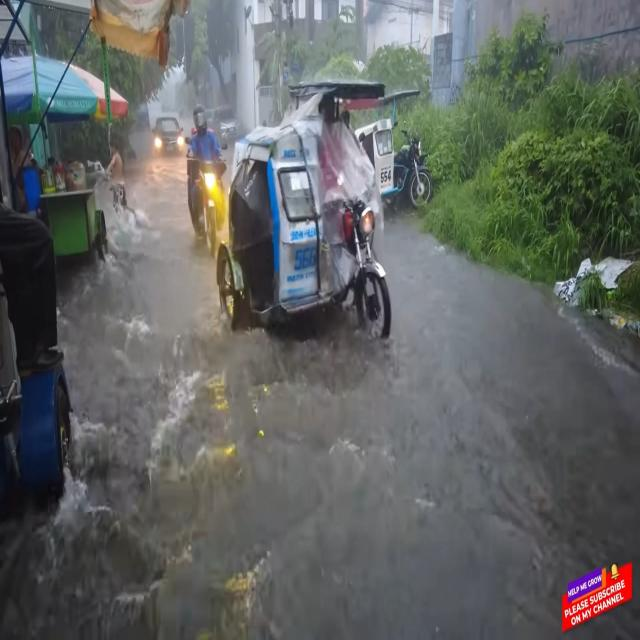full: (190, 103, 211, 139)
